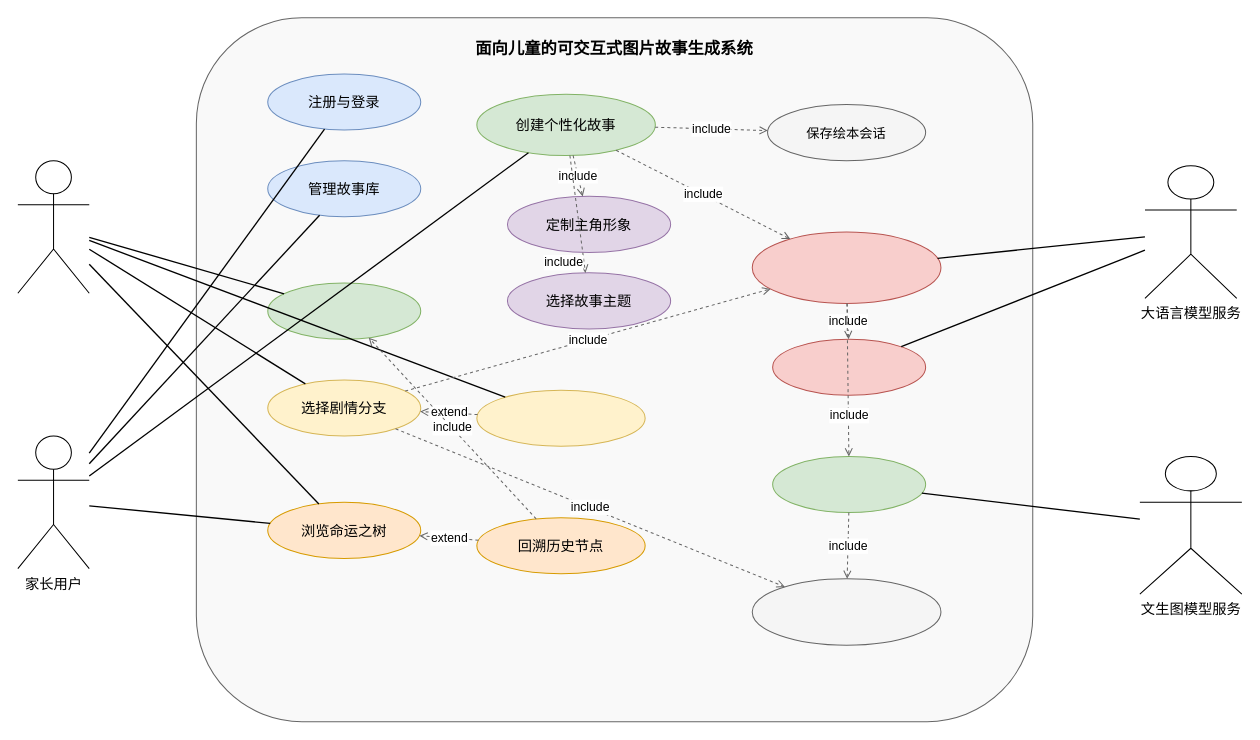
This 1260x740 diagram has some shape labels left out. Here are the shapes that lost their labels. From the top down, the box of each, then its label:
(17, 160, 89, 293): 儿童用户
(751, 231, 941, 303): 生成剧情文本 旁白 / 台词 / 选项
(267, 282, 421, 339): 阅读动态剧情
(772, 338, 926, 395): 内容安全审核
(476, 389, 645, 446): 输入自定义选择
(772, 455, 926, 513): 生成绘本插图
(751, 578, 941, 645): 保存剧情节点 parent_id / depth
